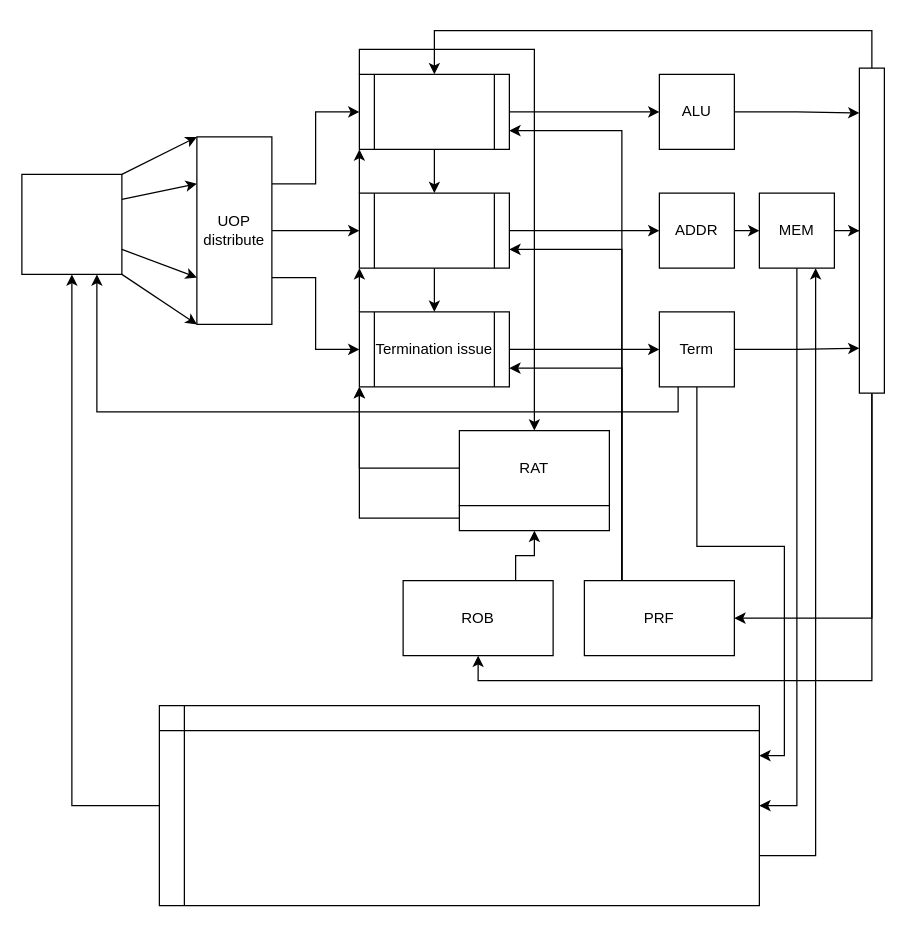
Some shapes in this 906 by 928 pixel diagram are drawn without their labels. Each missing label, with the box of its shape:
ALU issue: (358, 73, 509, 149)
Free pool: (458, 504, 609, 531)
Main memory: (158, 704, 759, 906)
Memory issue: (358, 192, 509, 268)
UOP fetch: (21, 173, 122, 274)
